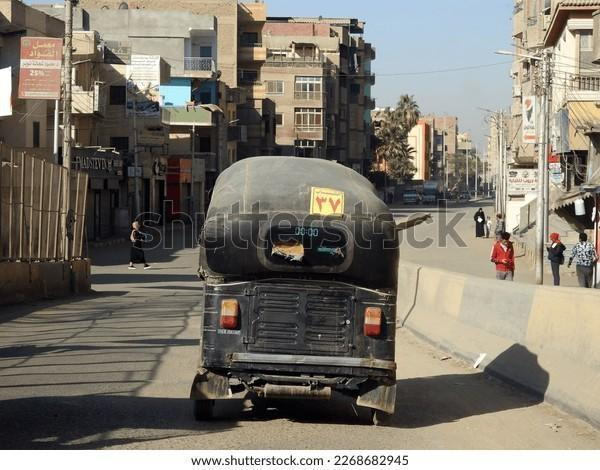keke: (190, 152, 399, 434)
